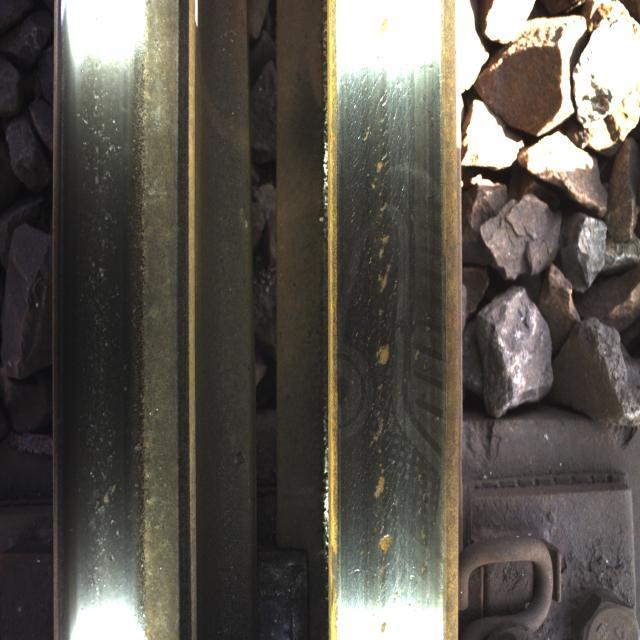crack: (344, 29, 411, 578)
normal: (64, 36, 165, 598)
